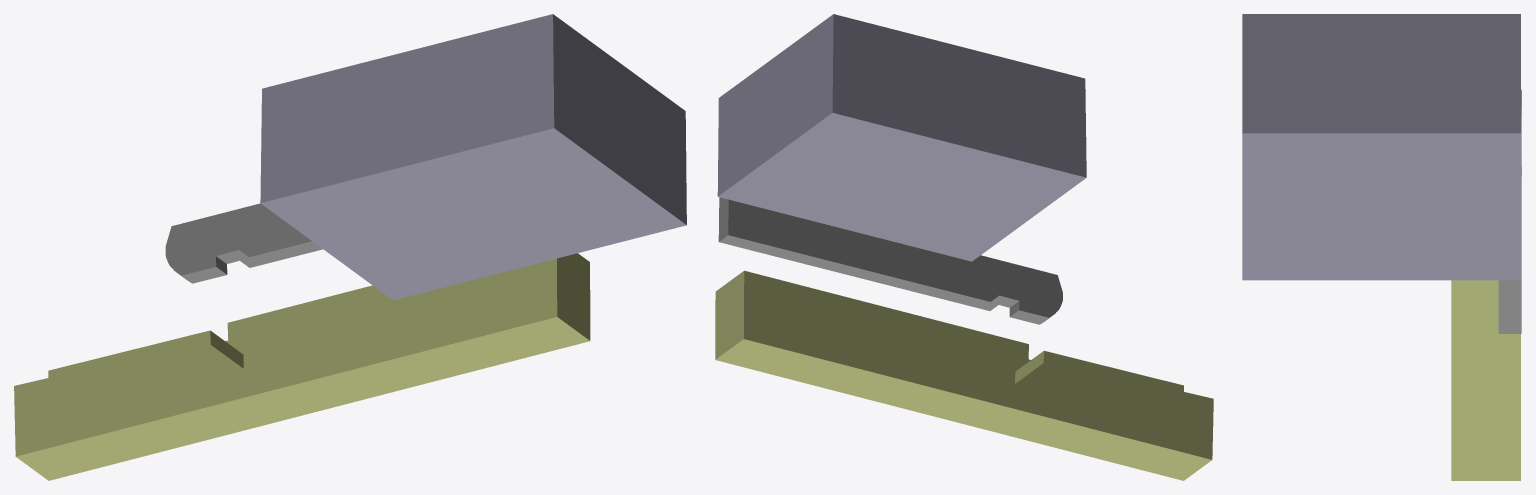
The picture shows the model from 3 angles, left to right: view 1: azimuth 30°, elevation 25°; view 2: azimuth 150°, elevation 25°; view 3: azimuth 270°, elevation 25°; orthographic projection. The views are drawn at different scales.
Parts seen in each view (by area): view 1: 0_0_2_0_1_0_1_2; view 2: 0_0_2_0_1_0_1_2; view 3: 0_0_2_0_1_0_1_2.
Part boxes in pixels (<box>): 0_0_2_0_1_0_1_2: <box>14,14,686,480</box>; 0_0_2_0_1_0_1_2: <box>715,14,1213,480</box>; 0_0_2_0_1_0_1_2: <box>1242,14,1521,480</box>.
Size of the model in its own units: 85.1 by 46.65 by 36.1.
